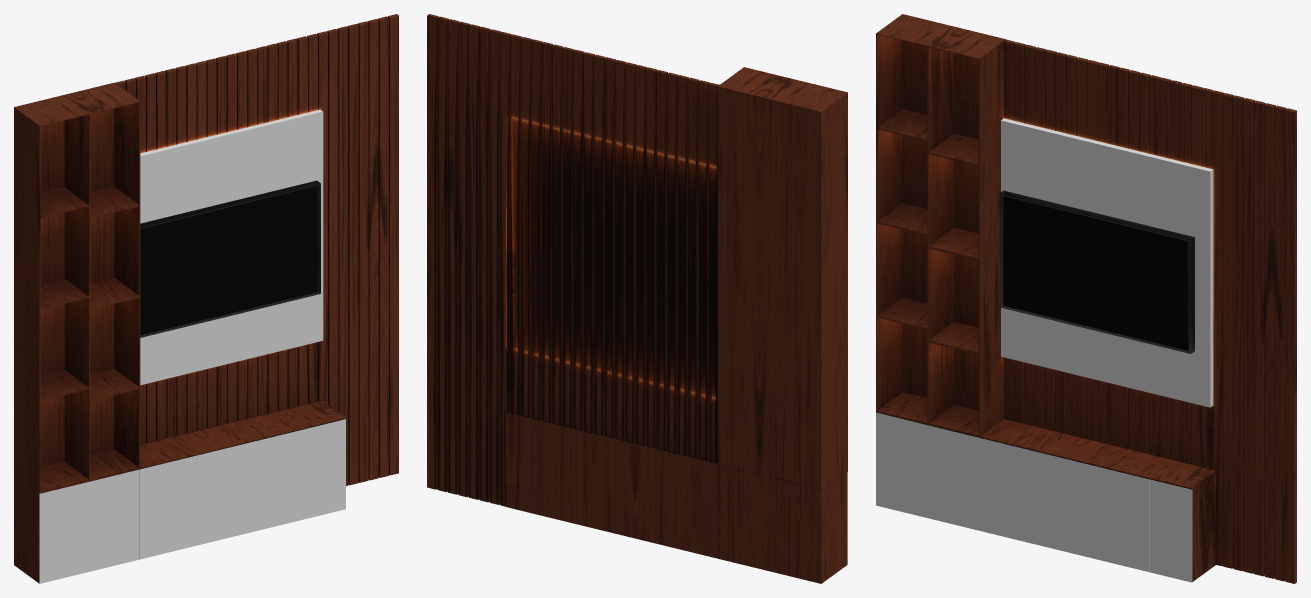
The model's file is Tv Unite_2.fbx.
3 views of the same model, side by side, from view 1: azimuth 30°, elevation 25°; view 2: azimuth 150°, elevation 25°; view 3: azimuth 330°, elevation 25° (orthographic). The views are drawn at different scales.
Parts seen in each view (by area): view 1: Circle.013, tv_32in; view 2: Circle.013; view 3: Circle.013, tv_32in.
Part boxes in pixels (x1=…): Circle.013: x1=14, y1=14, x2=398, y2=583; tv_32in: x1=140, y1=180, x2=320, y2=337; Circle.013: x1=427, y1=14, x2=847, y2=583; Circle.013: x1=876, y1=14, x2=1296, y2=583; tv_32in: x1=999, y1=190, x2=1194, y2=353.
Size of the model in its own units: 267 by 305 by 31.04.
5 materials, 1 textured.
